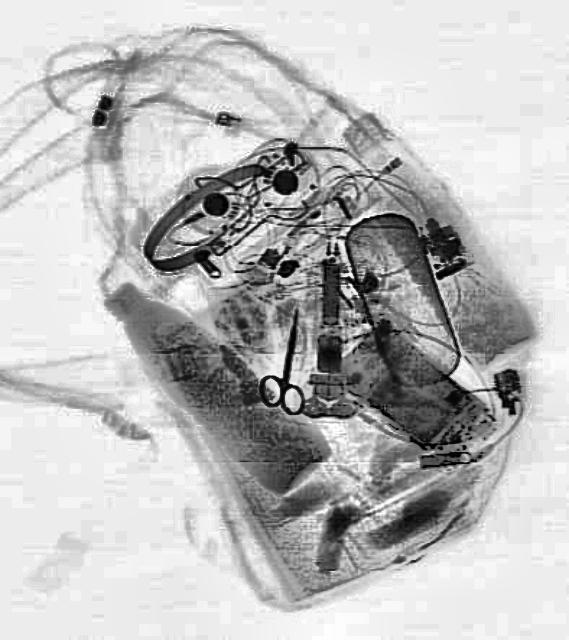Scissors: (255, 304, 317, 414)
